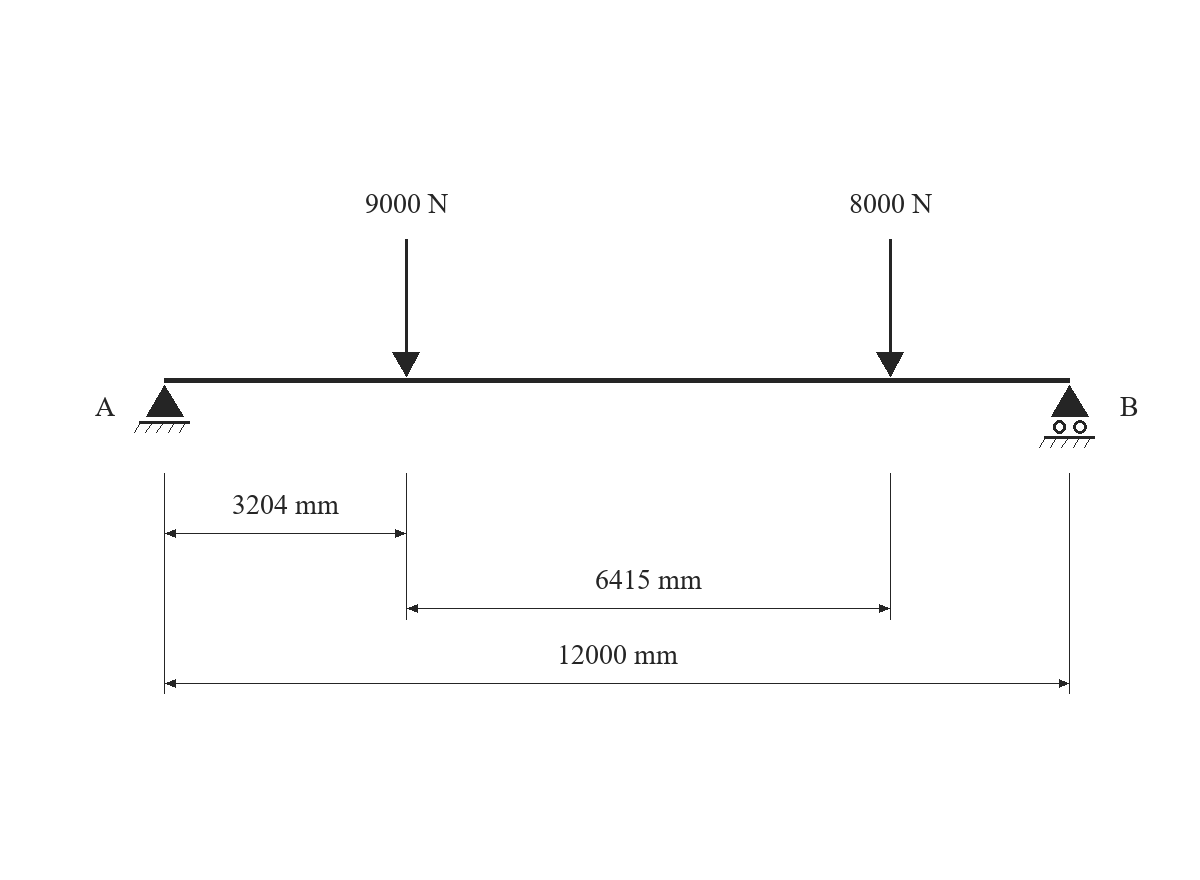pin_support: (134, 385, 190, 433)
point_load: (392, 239, 420, 377), (876, 239, 904, 377)
roller_support: (1039, 385, 1095, 448)
